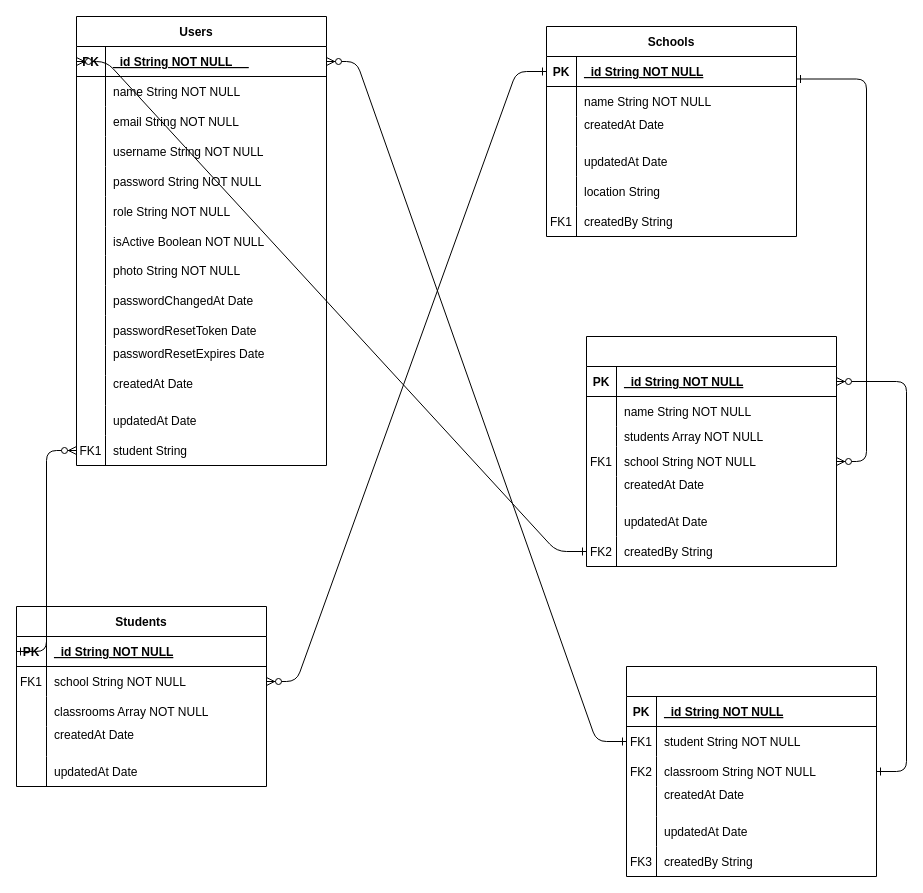
This 923x893 diagram has some shape labels left out. The box of each missing label's shape, as (x1, y1, x2, y2) in pixels:
Classrooms: (586, 336, 836, 566)
Enrollments: (626, 666, 876, 876)
